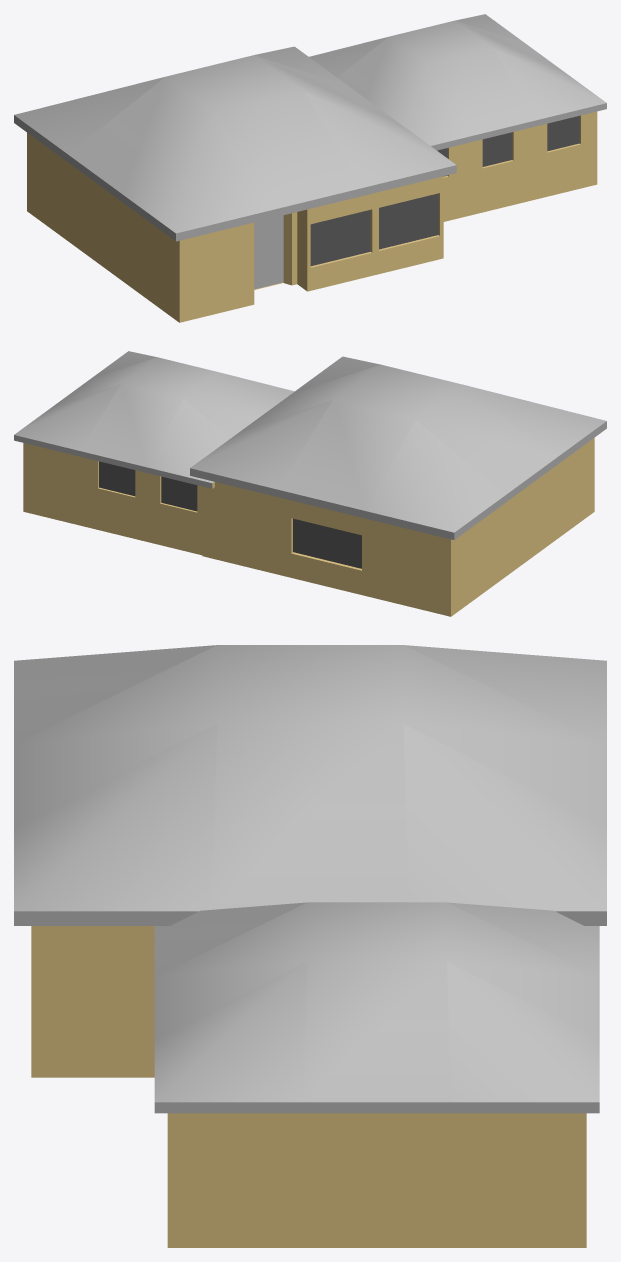
The model's file is House3.fbx.
The picture shows the model from 3 angles, top to bottom: view 1: azimuth 30°, elevation 25°; view 2: azimuth 150°, elevation 25°; view 3: azimuth 270°, elevation 25°; orthographic projection. The views are drawn at different scales.
Visible parts, largest first — view 1: House_3; view 2: House_3; view 3: House_3.
Part boxes in pixels (x1=…): House_3: x1=14, y1=14, x2=606, y2=322; House_3: x1=14, y1=351, x2=606, y2=616; House_3: x1=14, y1=645, x2=606, y2=1247.
Bounding box in the file's own units: 1955 × 599 × 1169.
